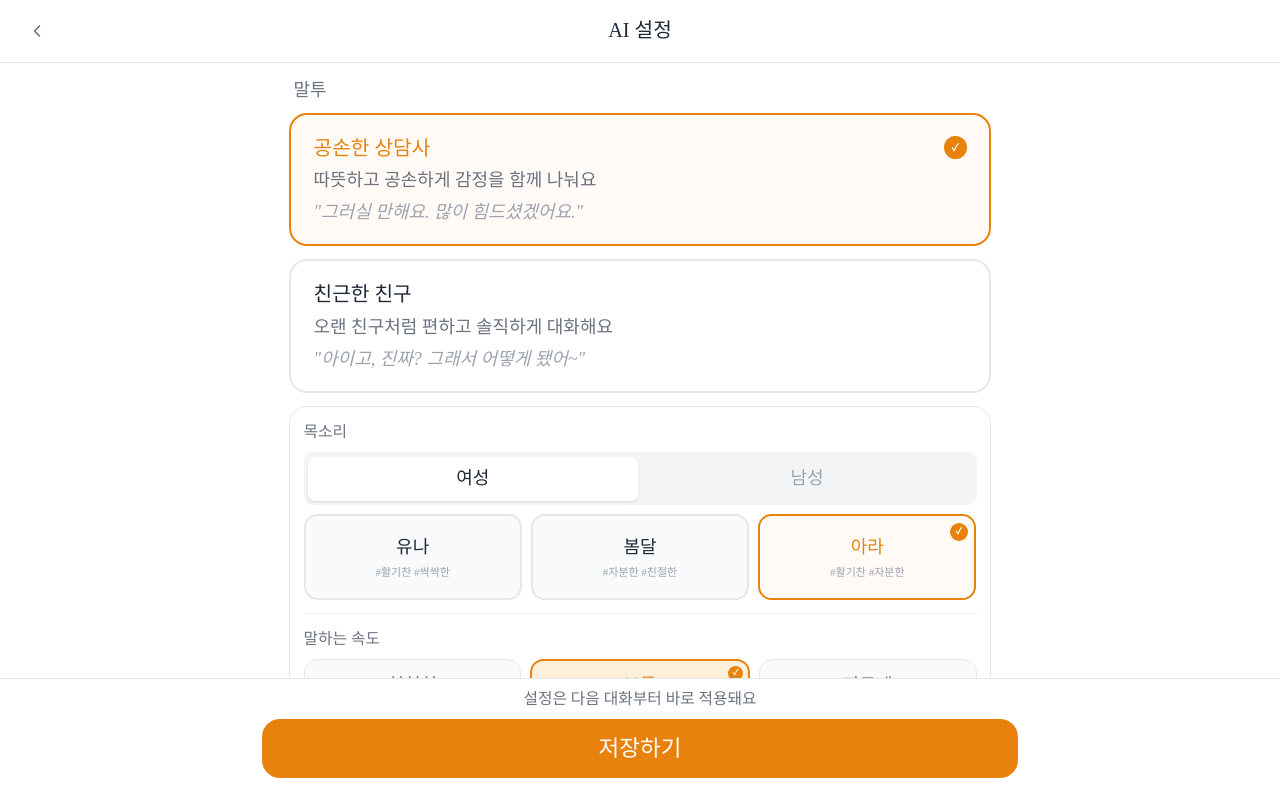
Test: AiVoiceSettingsPage — 보이스 카드 해시태그 › 남성 탭에서 민상 카드에 해시태그가 표시된다
Click the button "남성" at (807, 479), box [642,457,972,501]
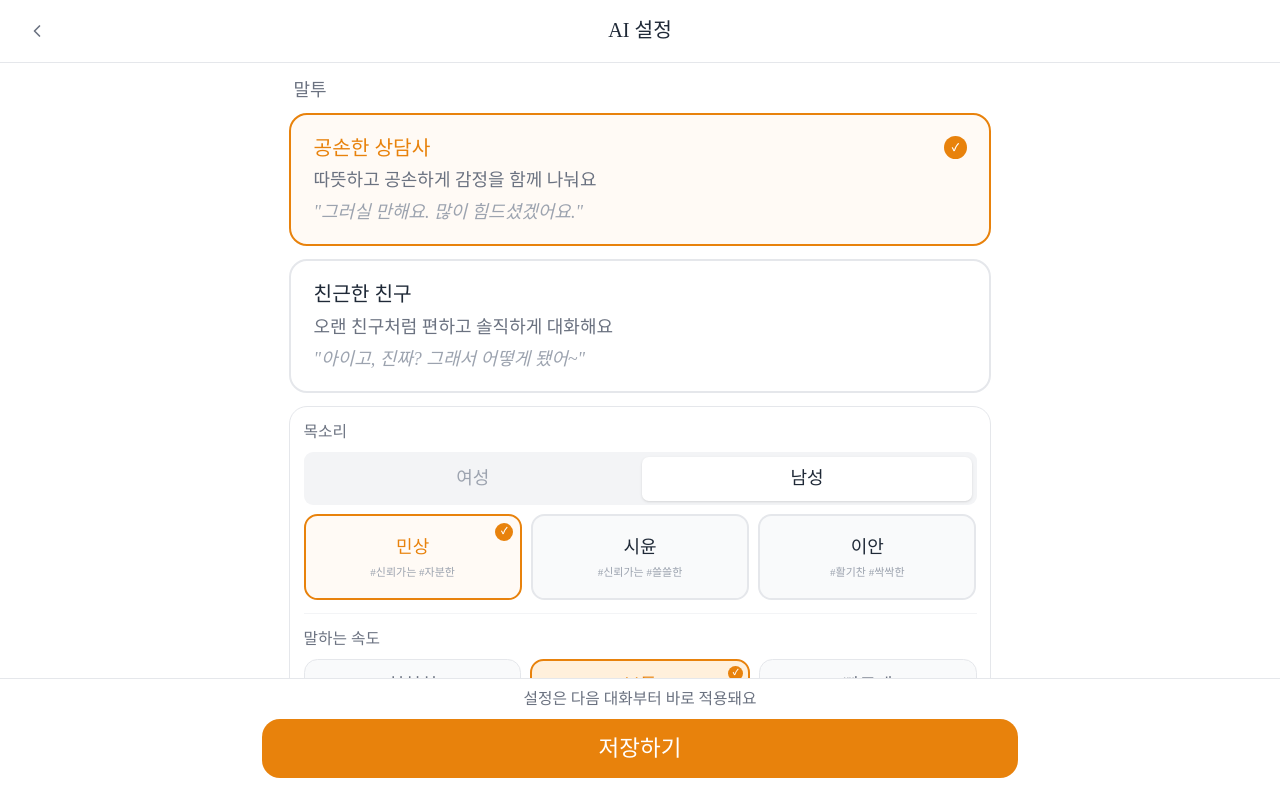
Expected: the text "#신뢰가는 #자분한" is shown, [370,566,455,580]
